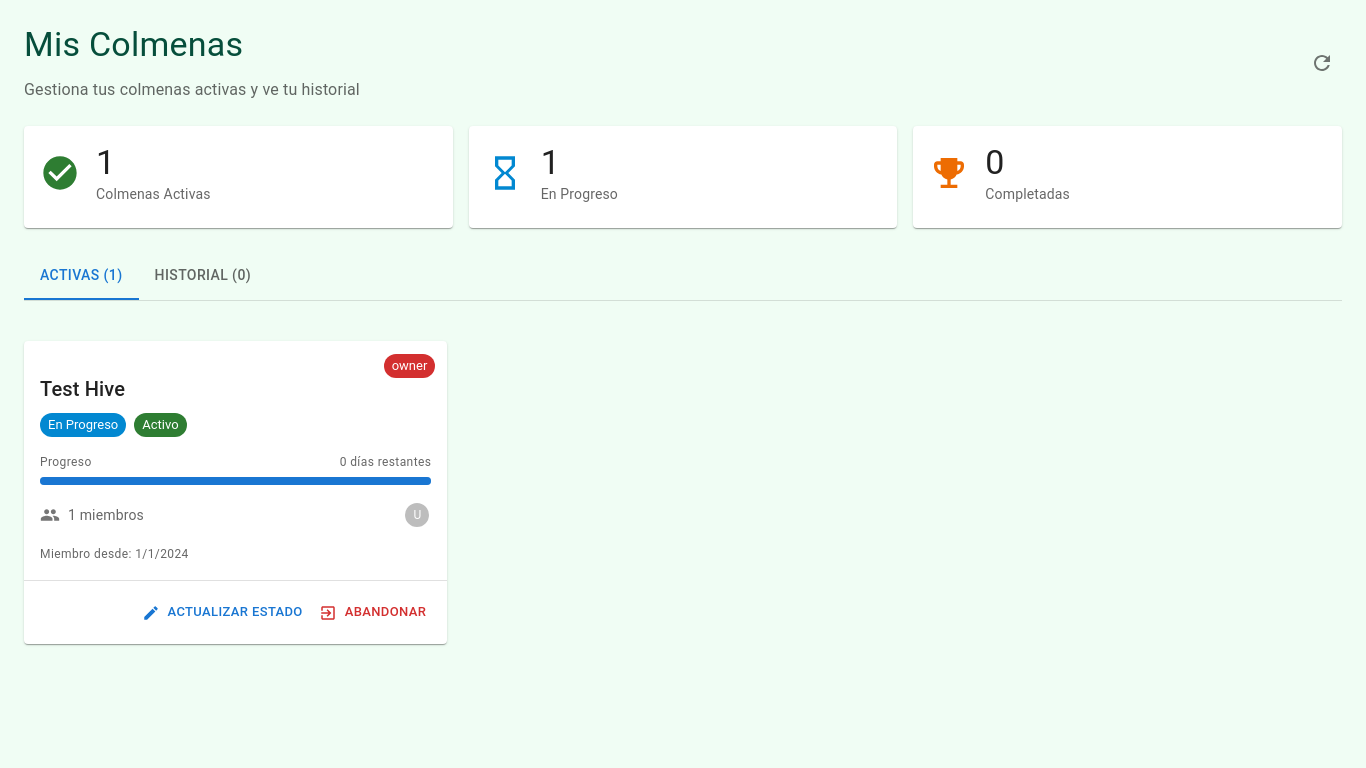
Scenario: MyHives Page › Leave Hive › should open confirmation dialog when abandoning hive
Check: the heading "Test Hive" is shown, box [40,377,125,401]
What coordinates should you click on to do the following:
click the button "Abandonar"
I would click on:
 (373, 613)
Its box is [316,598,431,628].
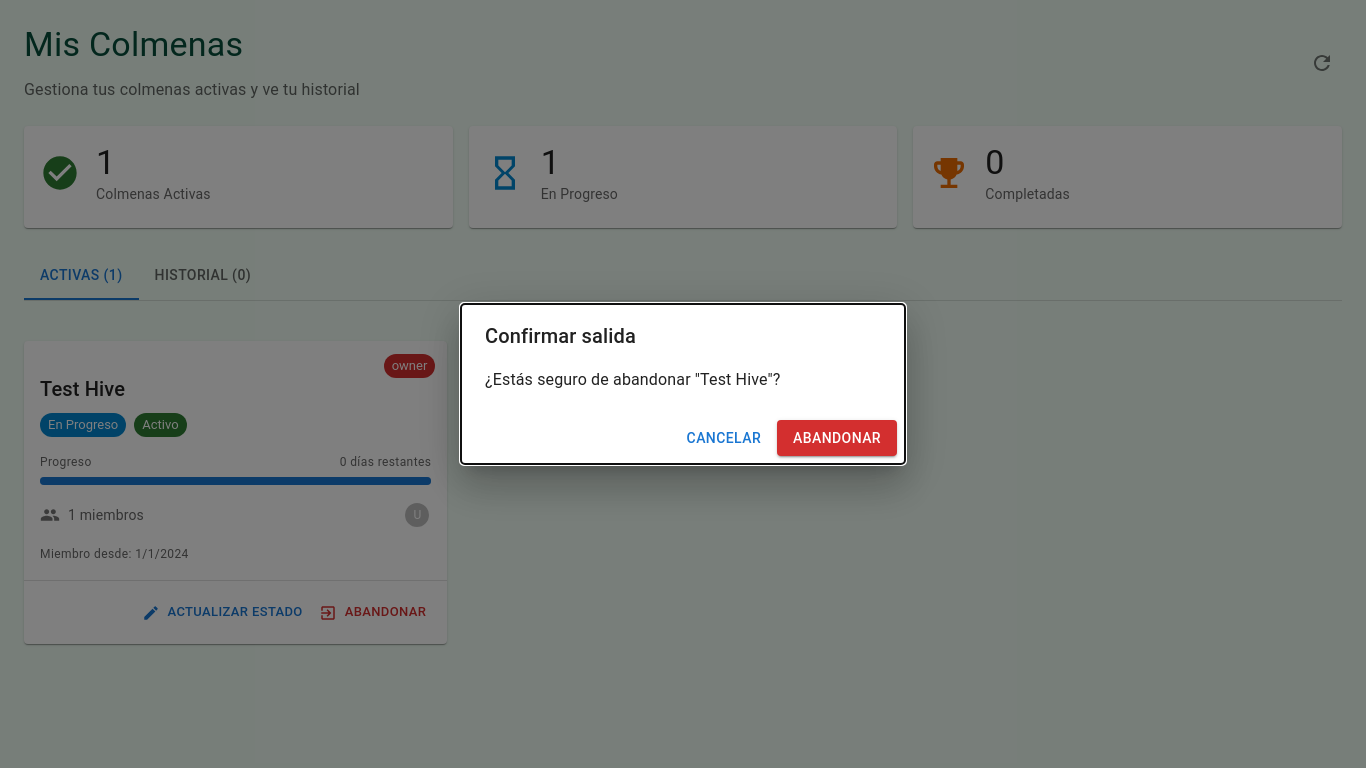
Check: the heading "Confirmar salida" is shown, box [485,324,636,348]
